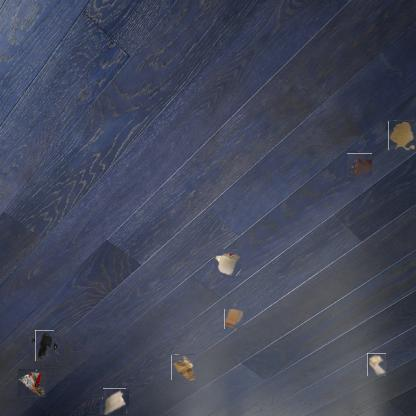dirty: (18, 370, 46, 396), (215, 250, 241, 277), (101, 389, 127, 416), (171, 354, 196, 380), (32, 333, 57, 358), (366, 354, 387, 375), (224, 310, 243, 330)
liquid: (388, 120, 415, 150), (347, 152, 372, 177)
